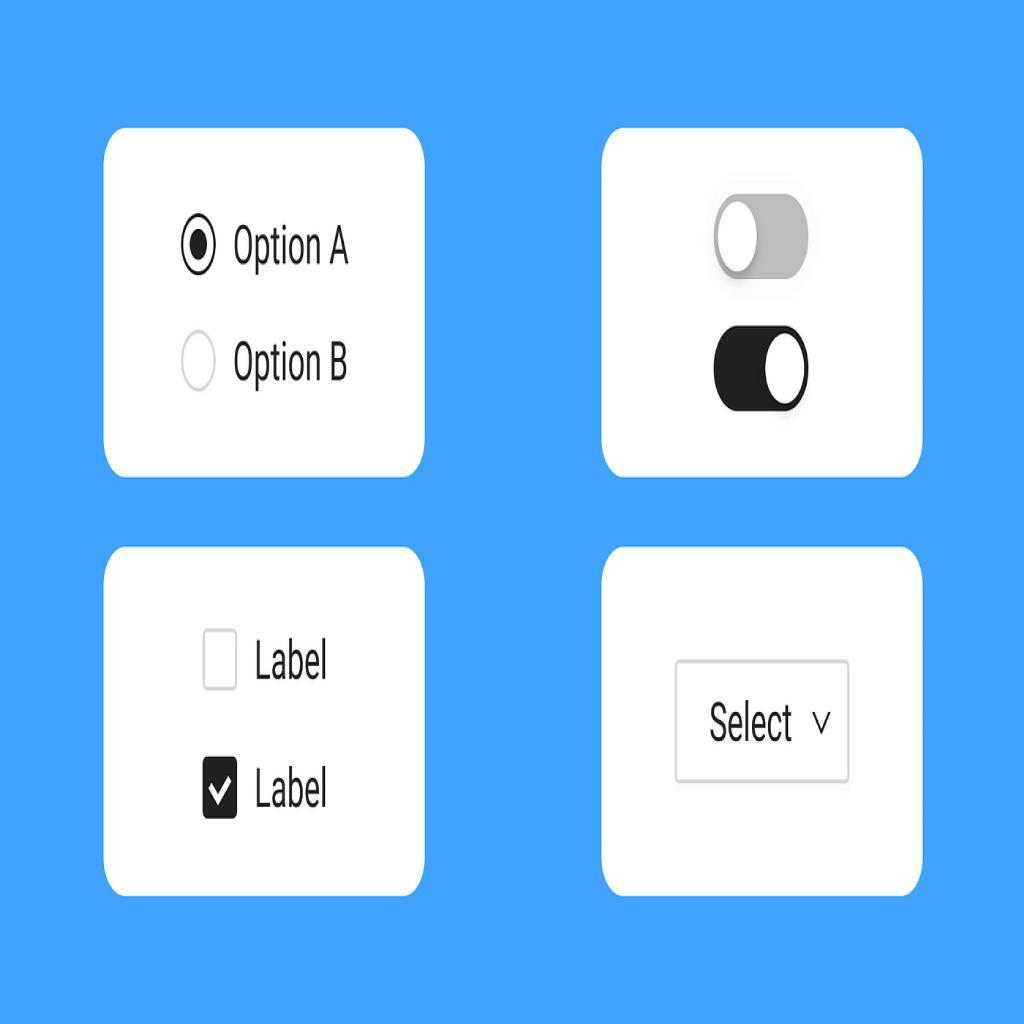checkbox: (203, 629, 240, 691), (203, 757, 239, 818)
dropdown: (674, 662, 851, 786)
label: (231, 218, 353, 278), (231, 337, 353, 392), (250, 758, 336, 818), (254, 631, 330, 690)
radio: (180, 211, 218, 278), (180, 329, 216, 394)
switch: (713, 194, 812, 282), (713, 327, 811, 414)
